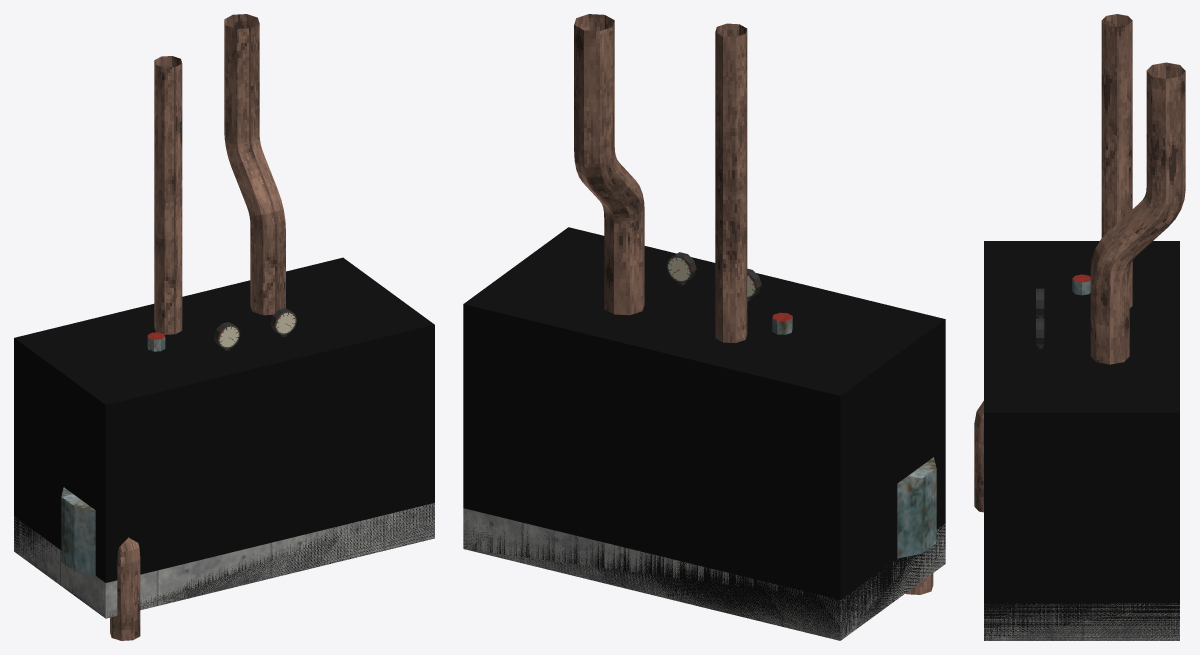
The model's file is pump.fbx.
The picture shows the model from 3 angles, left to right: view 1: azimuth 30°, elevation 25°; view 2: azimuth 150°, elevation 25°; view 3: azimuth 270°, elevation 25°; orthographic projection. The views are drawn at different scales.
Parts seen in each view (by area): view 1: col_body, pump; view 2: col_body, pump; view 3: col_body, pump.
Boxes of the visible parts, x1,y1,x2,y2 form: col_body: (14, 257, 434, 617); pump: (14, 14, 434, 640); col_body: (463, 227, 945, 640); pump: (463, 14, 945, 640); col_body: (984, 241, 1179, 640); pump: (974, 14, 1185, 640).
Size of the model in its own units: 3 by 4.25 by 1.51.
Materials: 4 (4 with a texture image).
